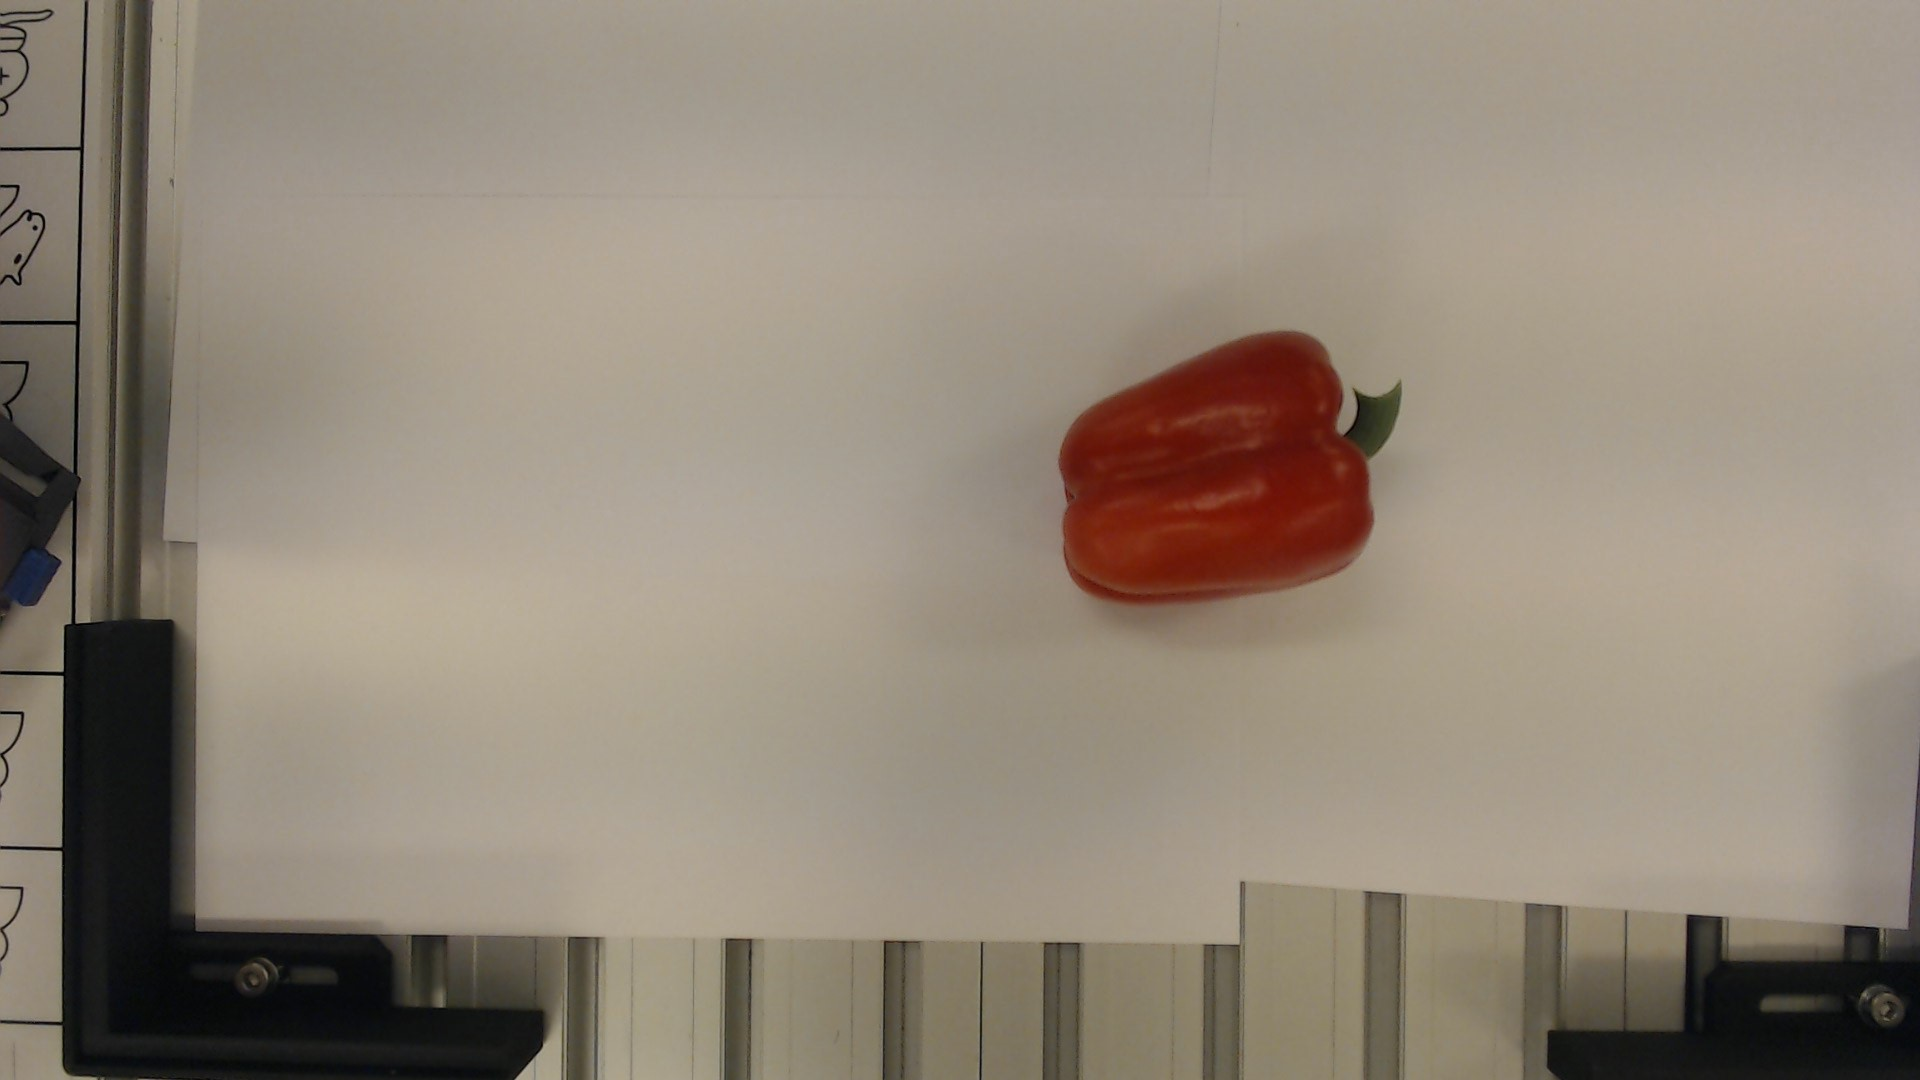Red Bell Pepper: (1059, 320, 1410, 607)
